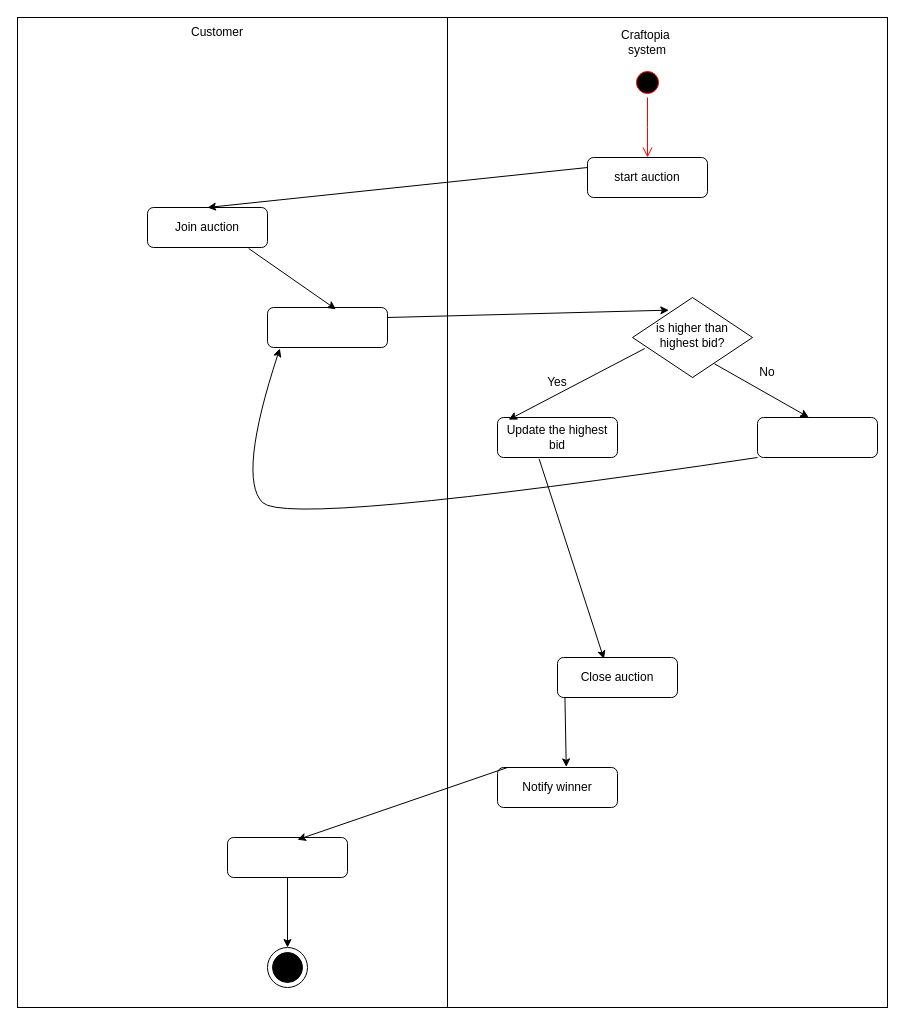
This 905x1025 diagram has some shape labels left out. Each missing label, with the centre of its shape:
"Receive notification" goes at (287,857).
"Send Error message" goes at (817,437).
"Submit a bid" goes at (327,327).
